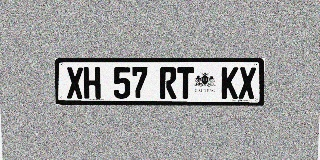5: (114, 67, 131, 99)
7: (131, 67, 148, 99)
H: (83, 67, 101, 99)
K: (221, 67, 238, 99)
R: (160, 67, 177, 99)
T: (177, 67, 194, 99)
X: (238, 67, 256, 99), (66, 67, 83, 99)
